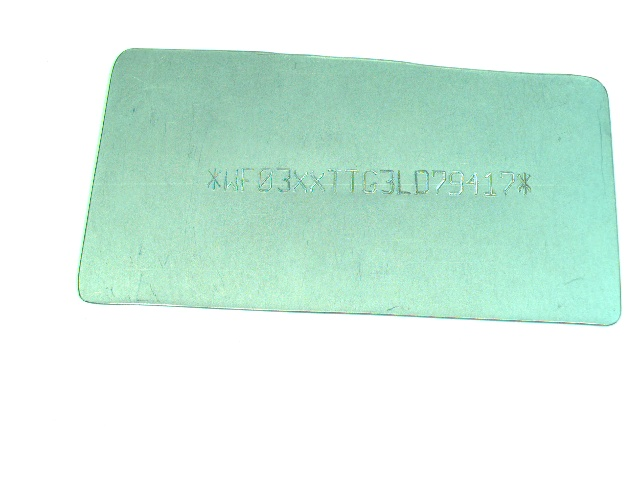0: (256, 166, 276, 193)
1: (483, 170, 498, 197)
3: (275, 166, 294, 193), (378, 168, 396, 195)
4: (465, 170, 483, 196)
7: (429, 168, 448, 196), (498, 169, 516, 197)
9: (448, 168, 466, 196)
d: (412, 167, 431, 196)
f: (240, 167, 254, 192)
g: (361, 168, 379, 194)
l: (395, 168, 411, 195)
t: (342, 168, 361, 196), (326, 167, 344, 195)
w: (223, 168, 240, 192)
x: (308, 168, 327, 194), (292, 167, 309, 193)
